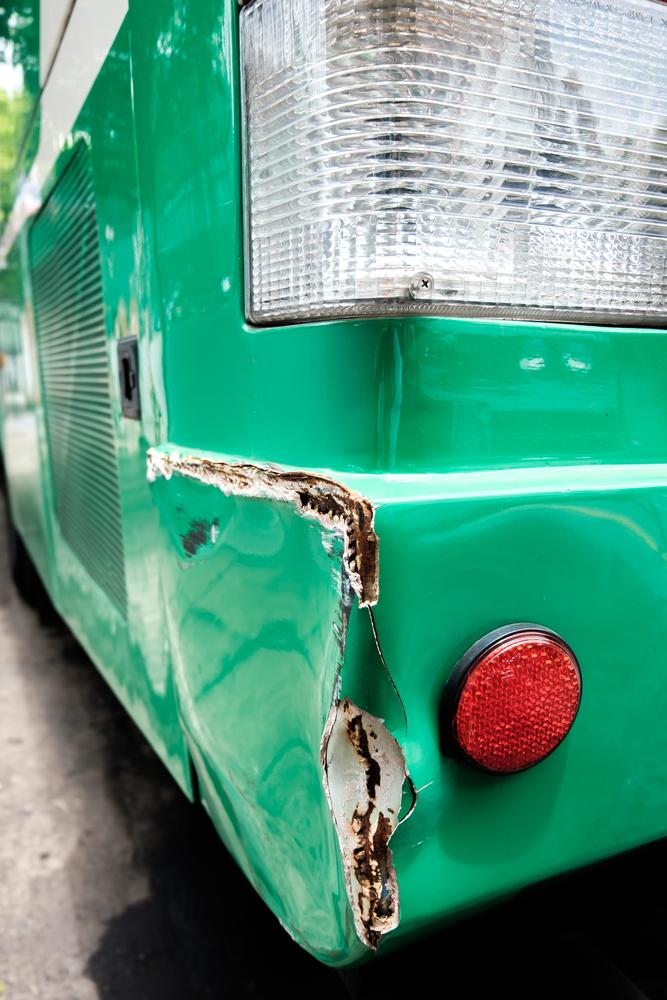crack: (146, 447, 383, 615)
dent: (175, 488, 405, 968), (348, 311, 423, 475)
